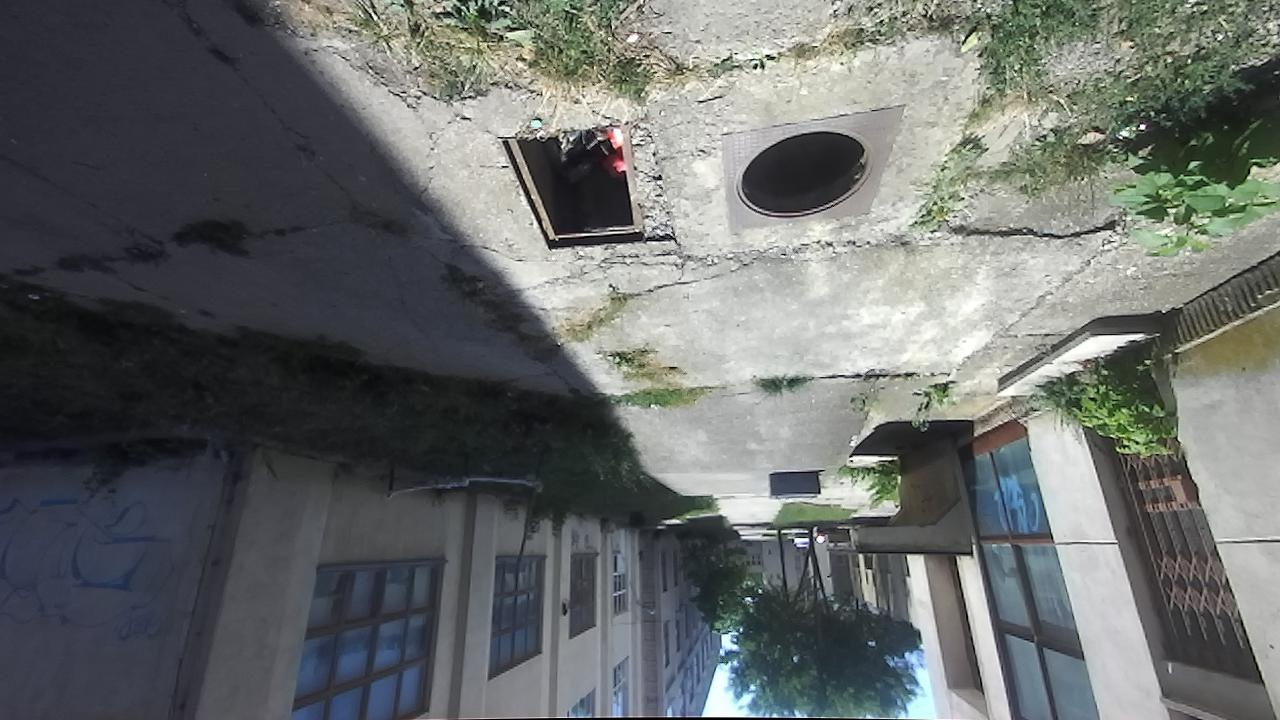drain: (491, 124, 651, 252), (727, 123, 884, 224)
